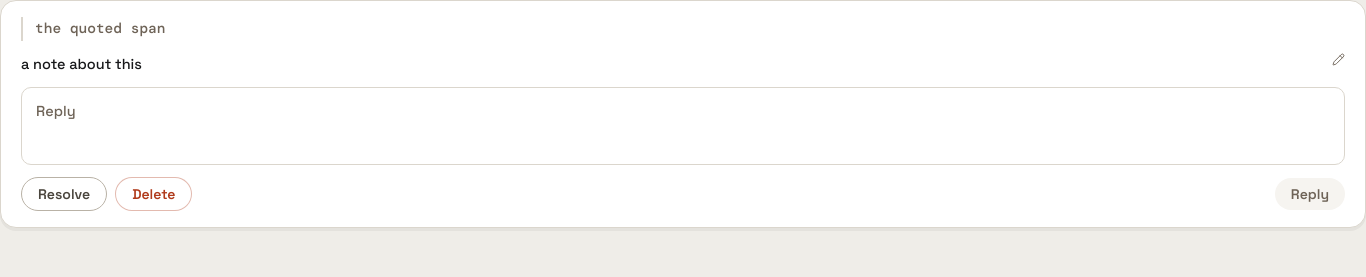
Test: <NoteThread /> › a failed reply renders inline, without clearing the composer
The width and height of the screenshot is (1366, 277).
Type "on it" into the text box with placeholder "Reply".
click(683, 122); type("on it")  # box left=36, top=100, right=1330, bottom=145
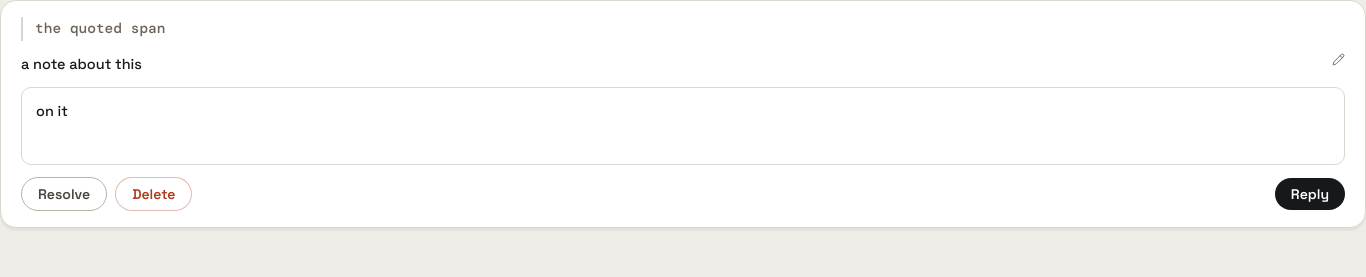
Click the button "Reply".
click(1310, 194)  # box left=1275, top=178, right=1345, bottom=210
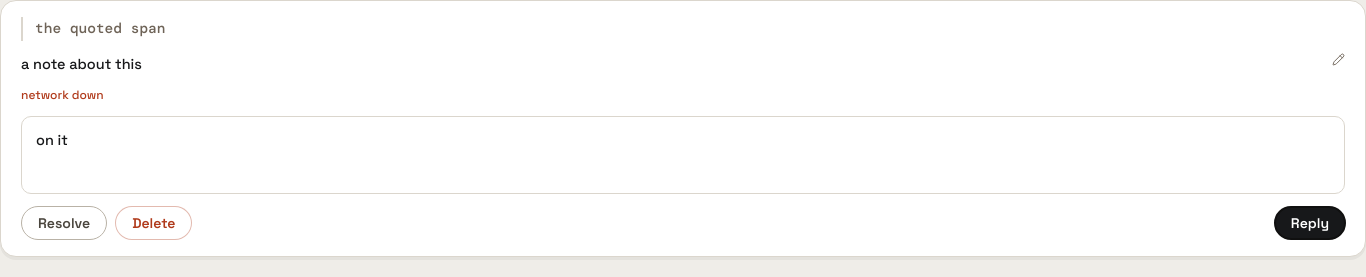
Result: the message reads "network down" at left=21, top=87, right=104, bottom=103
